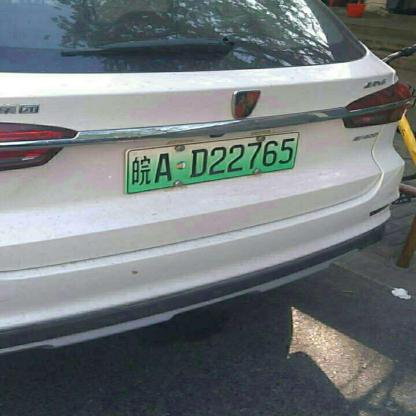lp: (126, 132, 300, 190)
